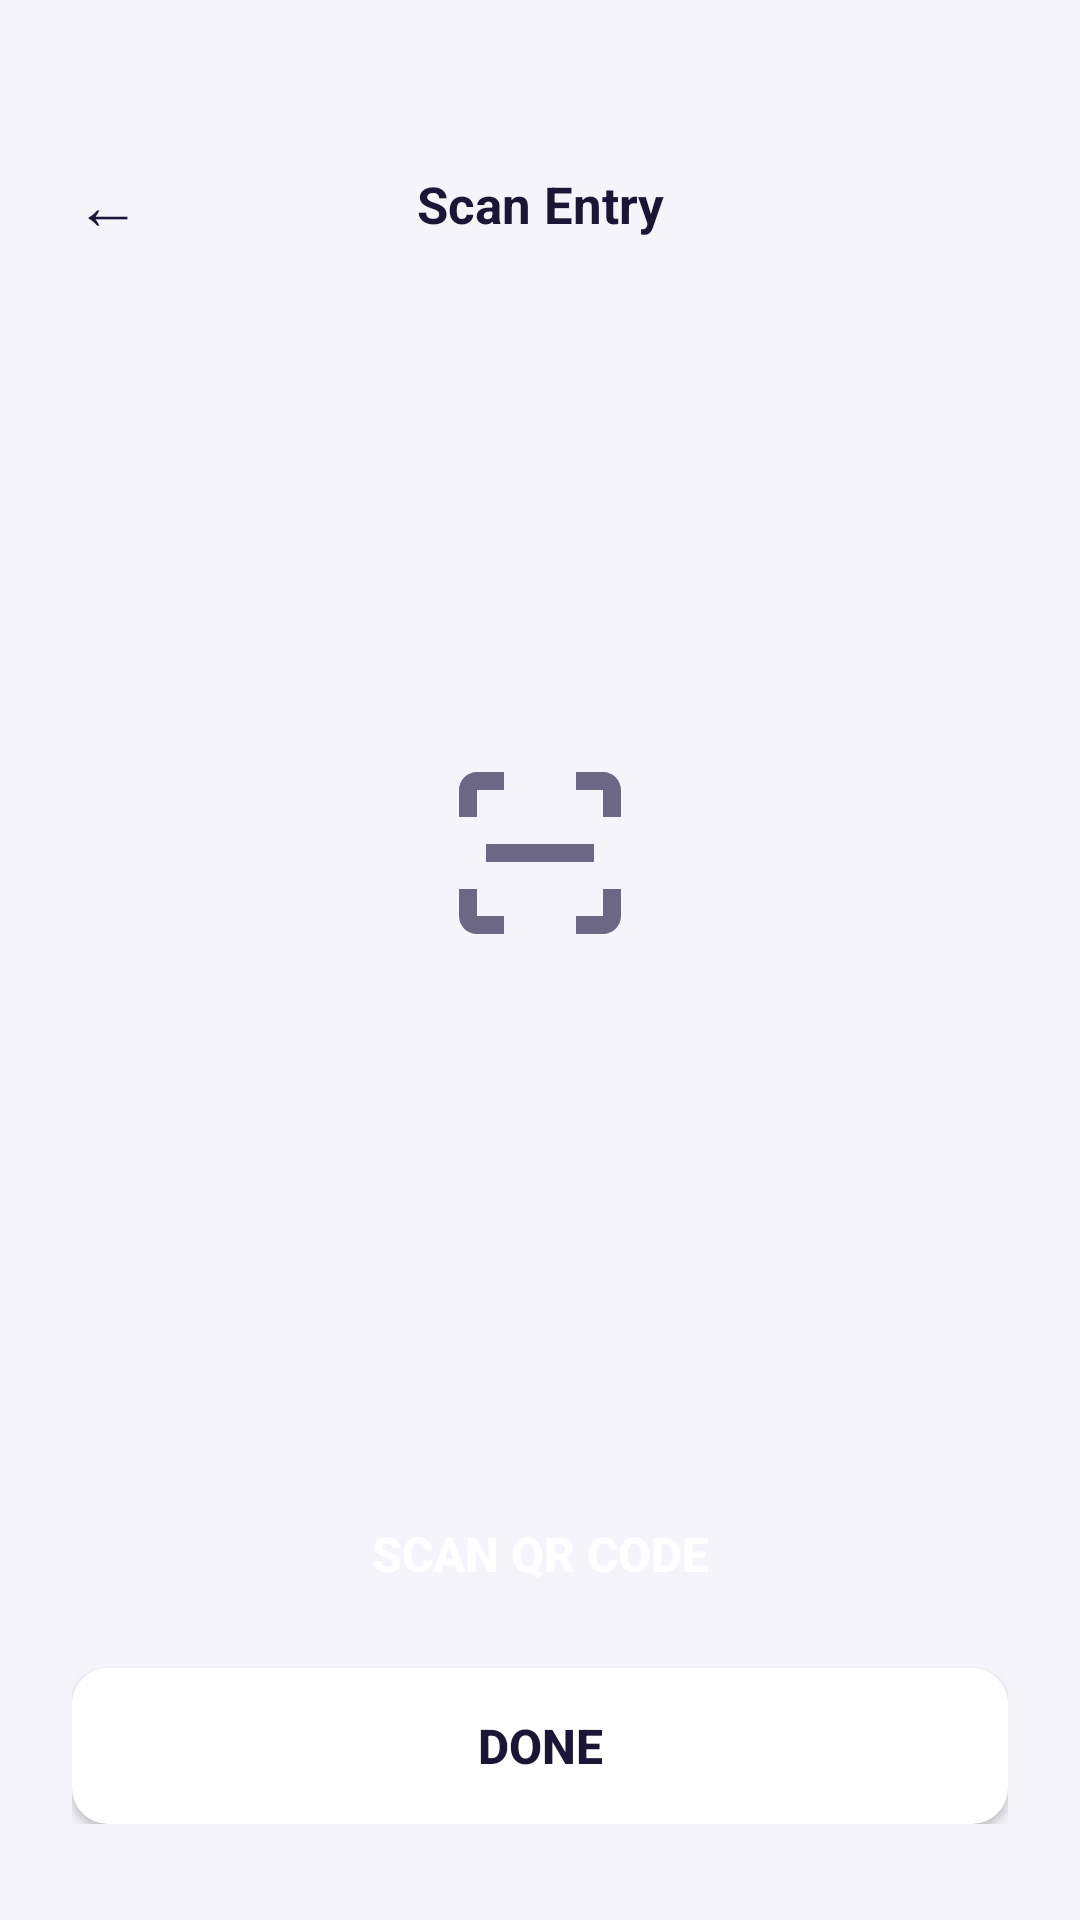

Point at icon controls on the screen. Image size 1080 x 1920, points as (x,y).
Scan Entry: (540,853)
